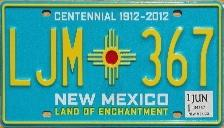3: (138, 27, 165, 88)
6: (164, 25, 191, 88)
7: (191, 26, 218, 88)
J: (33, 26, 60, 88)
L: (7, 27, 33, 88)
M: (60, 25, 86, 89)
